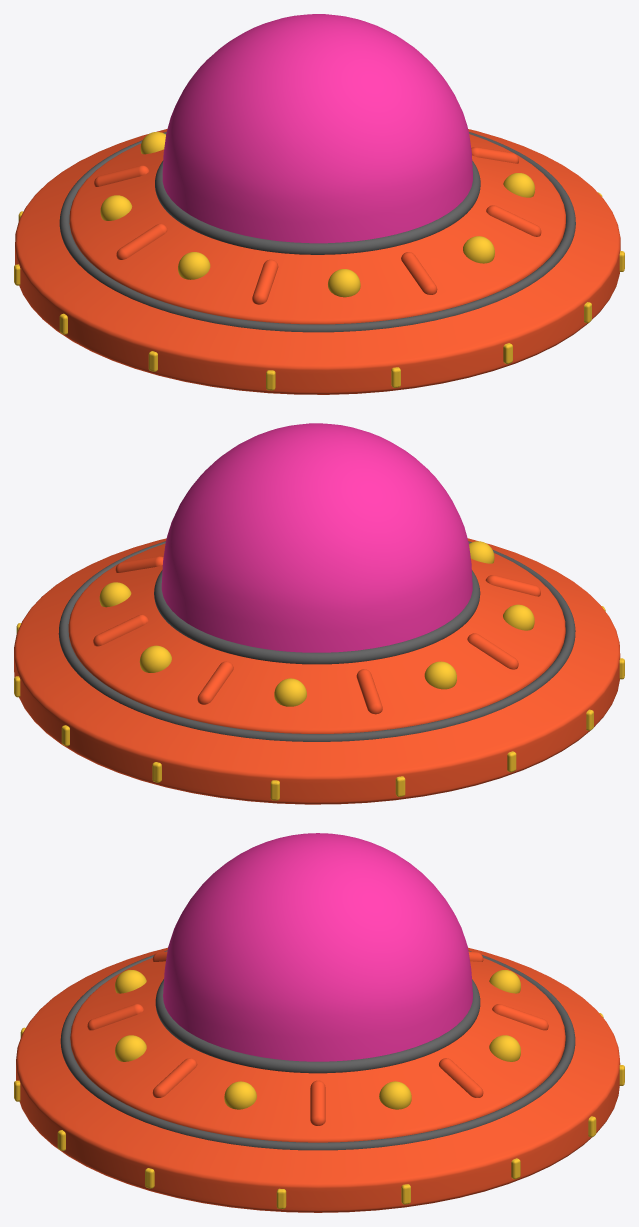
The model's file is ufo.glb.
The picture shows the model from 3 angles, top to bottom: view 1: azimuth 30°, elevation 25°; view 2: azimuth 150°, elevation 25°; view 3: azimuth 270°, elevation 25°; orthographic projection.
Visible parts, largest first — view 1: Roundcube, Cylinder, Cylinder.001, Cylinder.002, Cylinder.003, Roundcube.008, Cube.008, Cube.006, Cube.007, Cube, Cube.001, Cube.005; view 2: Roundcube, Cylinder, Cylinder.001, Cylinder.002, Cylinder.003, Roundcube.008, Cube.008, Cube.006, Cube.004, Cube.005, Cube.003, Cube.007; view 3: Roundcube, Cylinder, Cylinder.001, Cylinder.002, Cylinder.003, Roundcube.008, Cube.008, Cube.003, Cube.001, Cube.002, Cube, Cube.004.
Boxes of the visible parts, x1=… form: Roundcube: x1=162, y1=14, x2=472, y2=243; Cylinder: x1=15, y1=129, x2=620, y2=394; Cylinder.001: x1=69, y1=134, x2=565, y2=324; Cylinder.002: x1=59, y1=132, x2=575, y2=332; Cylinder.003: x1=155, y1=160, x2=480, y2=254; Roundcube.008: x1=100, y1=132, x2=535, y2=297; Cube.008: x1=14, y1=192, x2=624, y2=390; Cube.006: x1=116, y1=223, x2=167, y2=259; Cube.007: x1=252, y1=259, x2=278, y2=304; Cube: x1=401, y1=252, x2=437, y2=294; Cube.001: x1=486, y1=205, x2=541, y2=236; Cube.005: x1=94, y1=165, x2=149, y2=186; Roundcube: x1=161, y1=423, x2=472, y2=652; Cylinder: x1=14, y1=538, x2=620, y2=804; Cylinder.001: x1=68, y1=543, x2=565, y2=733; Cylinder.002: x1=58, y1=541, x2=575, y2=741; Cylinder.003: x1=154, y1=570, x2=480, y2=664; Roundcube.008: x1=99, y1=541, x2=534, y2=706; Cube.008: x1=14, y1=606, x2=624, y2=800; Cube.006: x1=467, y1=633, x2=518, y2=669; Cube.004: x1=197, y1=661, x2=233, y2=704; Cube.005: x1=356, y1=669, x2=382, y2=714; Cube.003: x1=93, y1=614, x2=148, y2=646; Cube.007: x1=485, y1=575, x2=540, y2=596; Roundcube: x1=163, y1=833, x2=472, y2=1061; Cylinder: x1=16, y1=947, x2=620, y2=1212; Cylinder.001: x1=70, y1=958, x2=565, y2=1142; Cylinder.002: x1=60, y1=950, x2=575, y2=1150; Cylinder.003: x1=155, y1=979, x2=480, y2=1073; Roundcube.008: x1=115, y1=970, x2=520, y2=1109; Cube.008: x1=14, y1=1013, x2=624, y2=1209; Cube.003: x1=439, y1=1058, x2=483, y2=1097; Cube.001: x1=152, y1=1058, x2=197, y2=1097; Cube.002: x1=310, y1=1080, x2=325, y2=1125; Cube: x1=87, y1=1004, x2=143, y2=1030; Cube.004: x1=492, y1=1004, x2=548, y2=1030.
Bounding box in the file's own units: 2.01 × 1.05 × 2.01.
